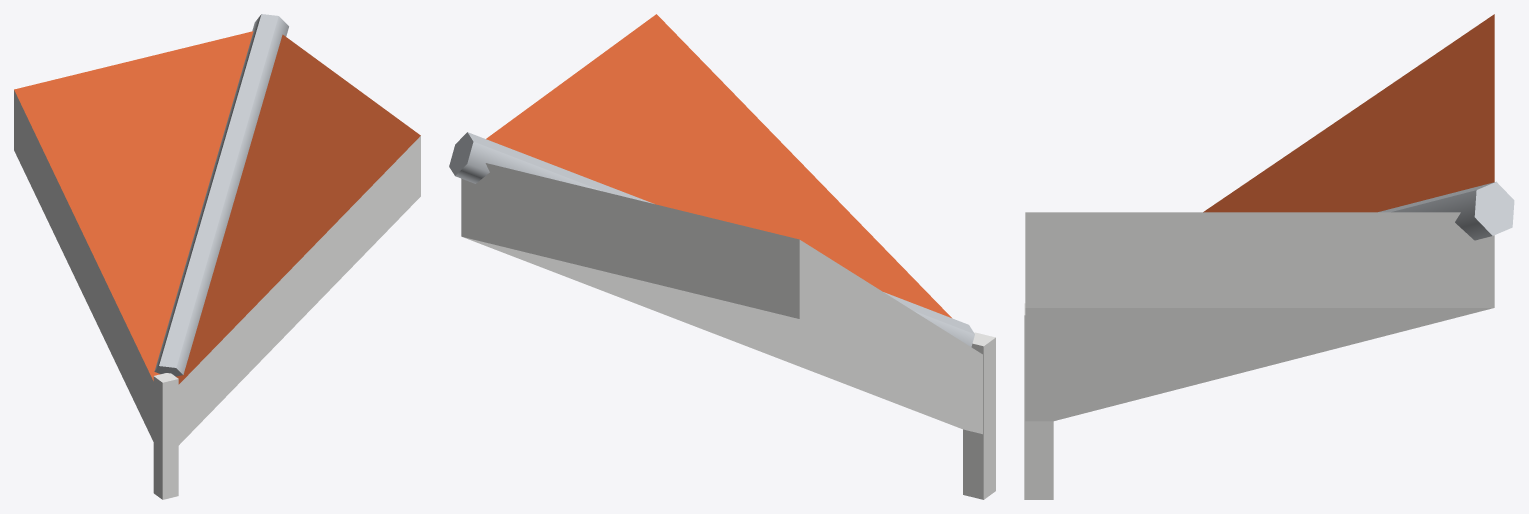
The model's file is telhado_beiral_canto_interno_i75.glb.
The picture shows the model from 3 angles, left to right: view 1: azimuth 30°, elevation 25°; view 2: azimuth 150°, elevation 25°; view 3: azimuth 270°, elevation 25°; orthographic projection. The views are drawn at different scales.
Parts seen in each view (by area): view 1: telhado_beiral_canto_interno_i75; view 2: telhado_beiral_canto_interno_i75; view 3: telhado_beiral_canto_interno_i75.
Boxes of the visible parts, bbox=[...] form: telhado_beiral_canto_interno_i75: bbox=[14, 14, 420, 499]; telhado_beiral_canto_interno_i75: bbox=[449, 14, 995, 499]; telhado_beiral_canto_interno_i75: bbox=[1024, 14, 1514, 499].
Size of the model in its own units: 0.5222 by 0.5845 by 0.5222.
3 materials, 1 textured.
